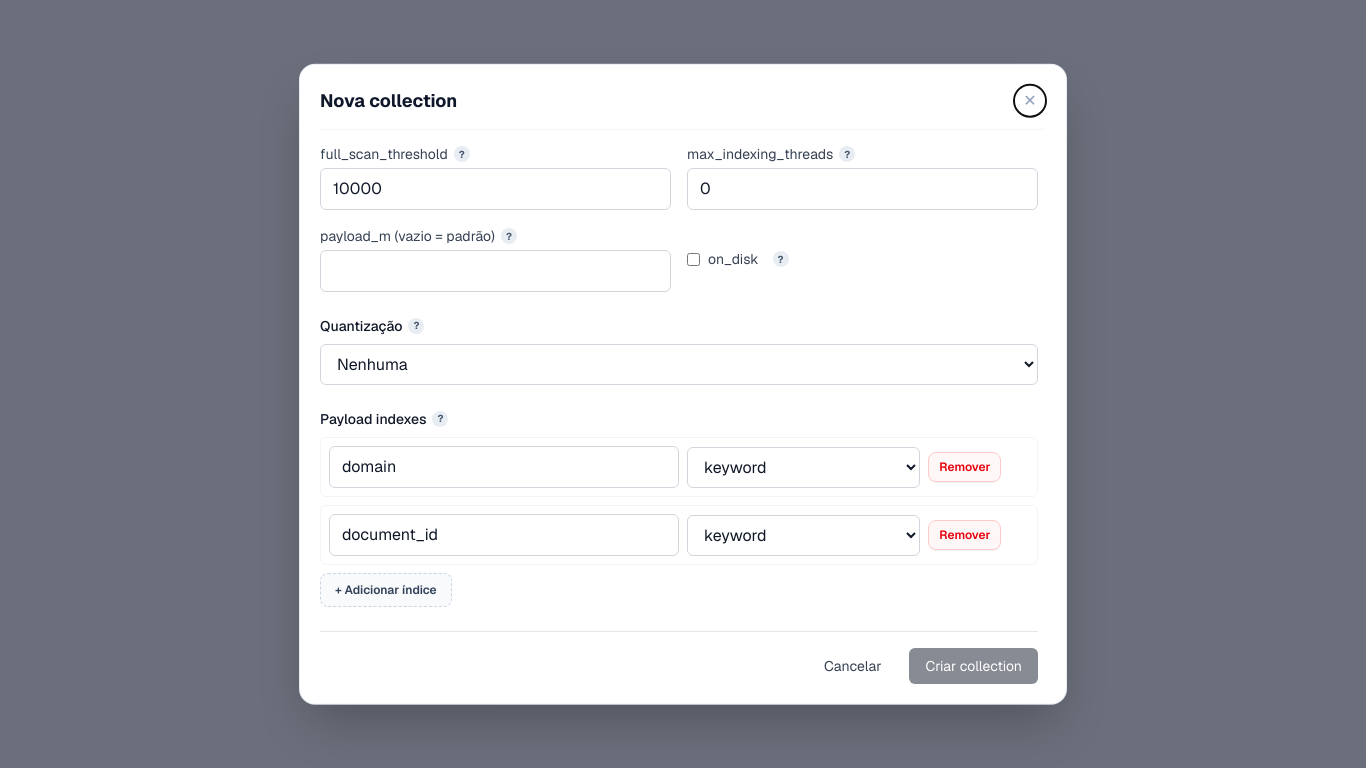
Scenario: CollectionFormModal › selecionar schema_type 'text' num payload index revela os campos de text_params
(page scrolled)
Select "text" in the dropdown named "Tipo do índice 1" at (804, 467), box [687,446,920,487]
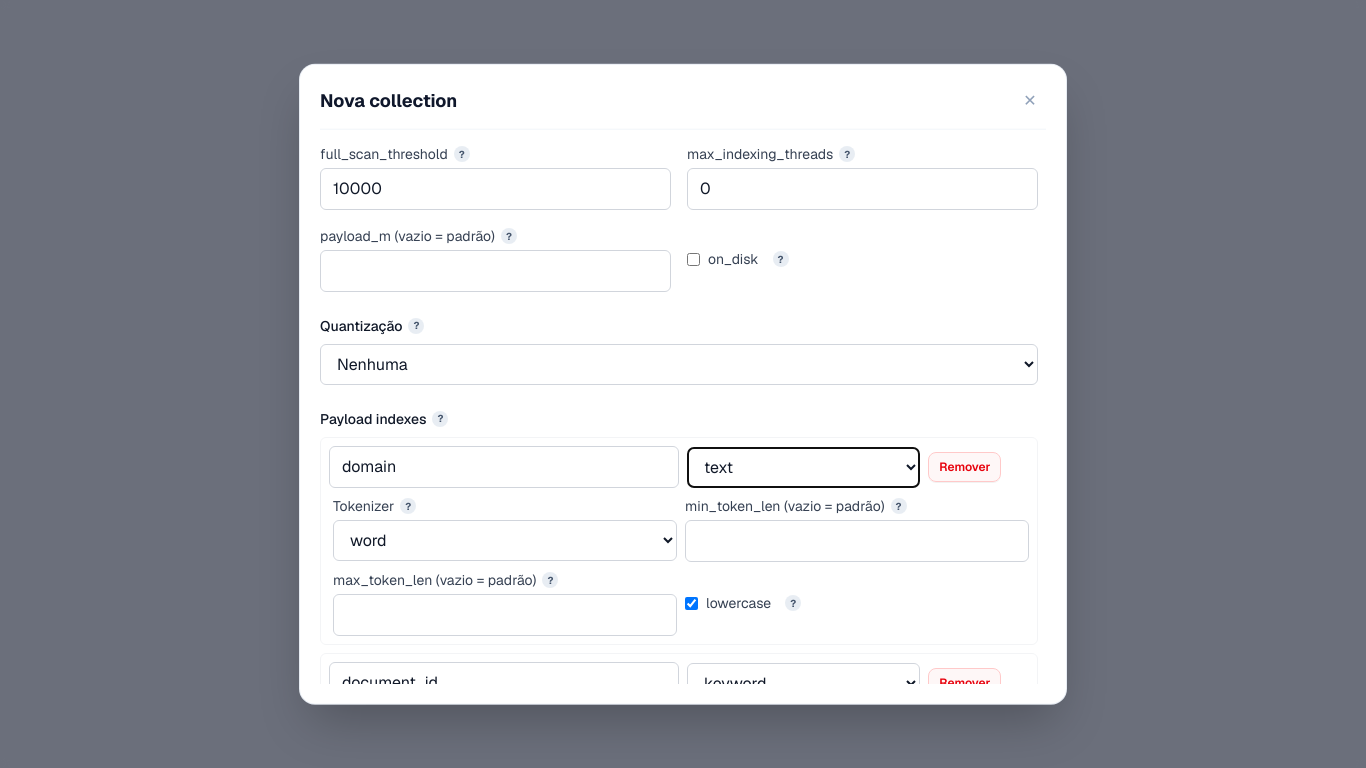
Now the dropdown named "Tokenizer do índice 1" is shown, box [333,520,677,561]
